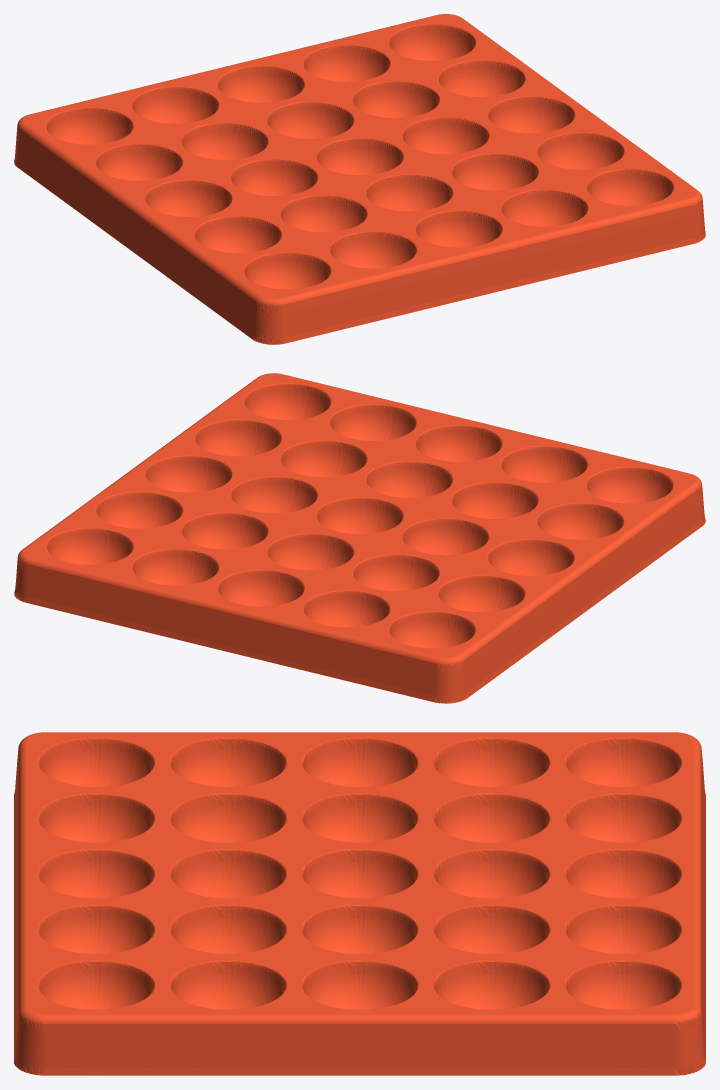
The model's file is mold.glb.
3 renders of one model, top to bottom at view 1: azimuth 30°, elevation 25°; view 2: azimuth 150°, elevation 25°; view 3: azimuth 270°, elevation 25°, orthographic. The views are drawn at different scales.
Visible parts, largest first — view 1: geometry_0; view 2: geometry_0; view 3: geometry_0.
Part boxes in pixels (left/top/right/bottom): geometry_0: left=14, top=14, right=705, bottom=344; geometry_0: left=14, top=373, right=705, bottom=703; geometry_0: left=14, top=732, right=705, bottom=1075.
Size of the model in its own units: 0.193 by 0.0172 by 0.193.
